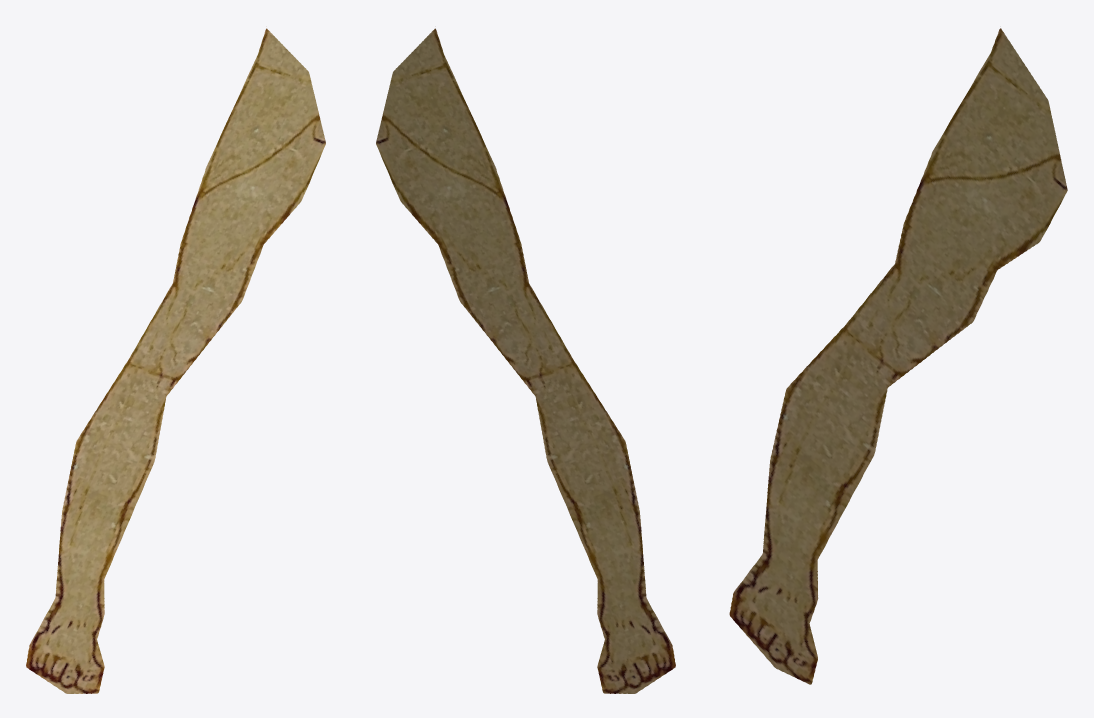
File: leg_L.fbx
3 renders of one model, left to right at view 1: azimuth 30°, elevation 25°; view 2: azimuth 150°, elevation 25°; view 3: azimuth 330°, elevation 25°, orthographic. The views are drawn at different scales.
Parts seen in each view (by area): view 1: leg_L; view 2: leg_L; view 3: leg_L.
Part boxes in pixels (x1,y1,x2,y2): leg_L: (26,28,325,693); leg_L: (376,28,675,693); leg_L: (729,28,1067,684).
Size of the model in its own units: 87.56 by 169 by 5.25e-06.
